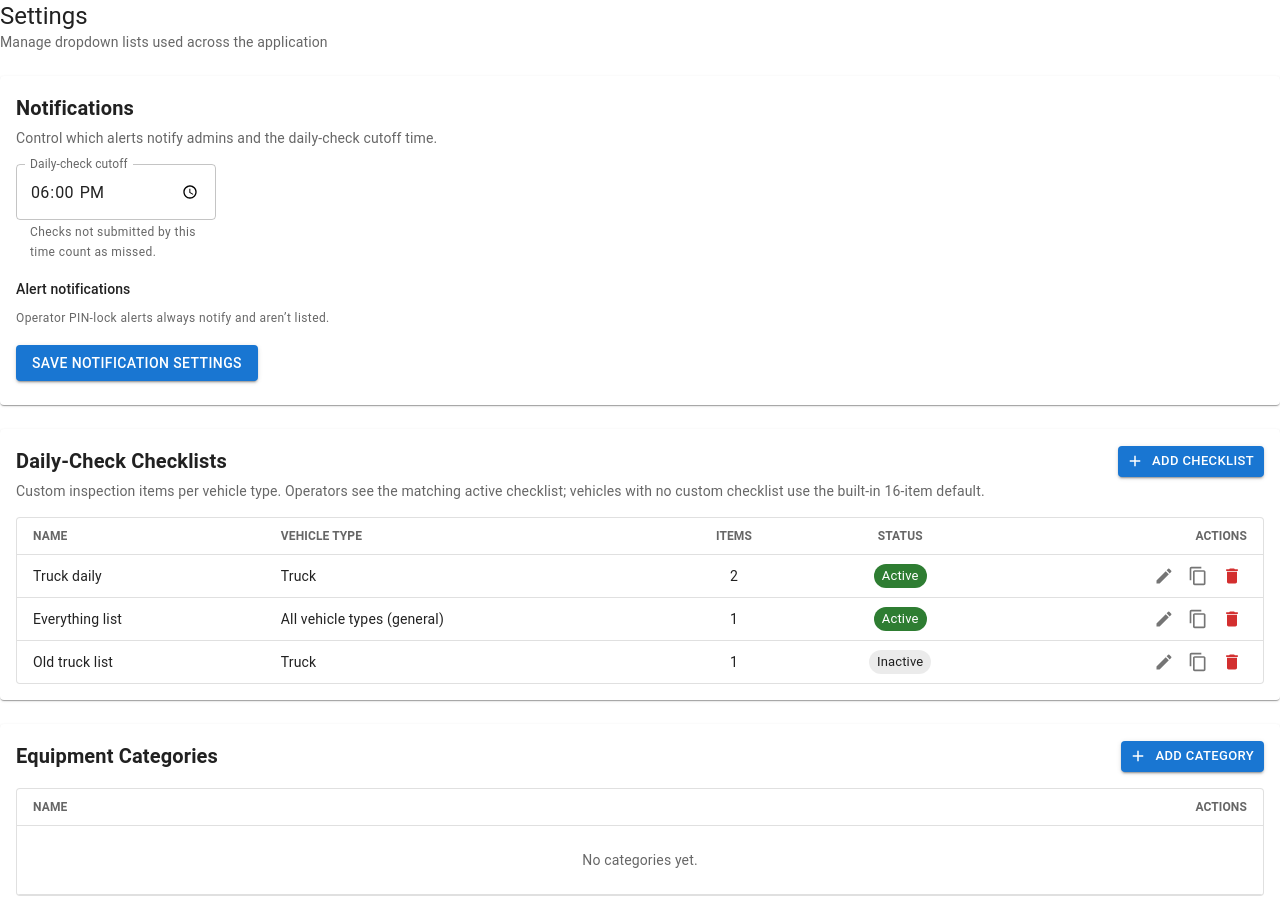
Test: UXP-6 (6e): Duplicate + inline validation › blocks an empty name and an empty item list inline — no request, no toast
Expected: the text "Truck daily" is shown, [33,568,102,584]
Click the button "Add Checklist" at (1191, 461), box [1118,446,1264,477]
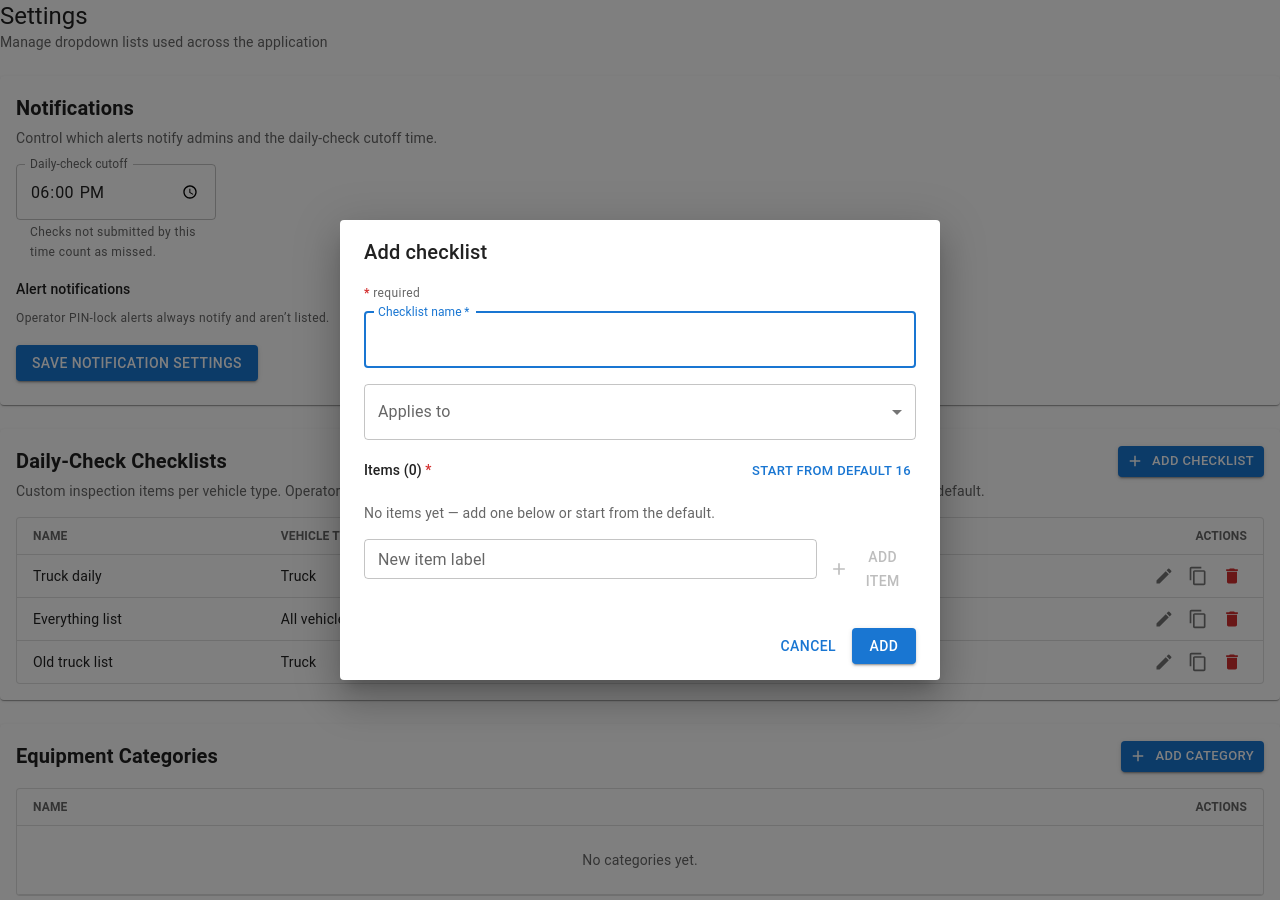
Click the button "Add" at (884, 646), box [852,628,916,664]
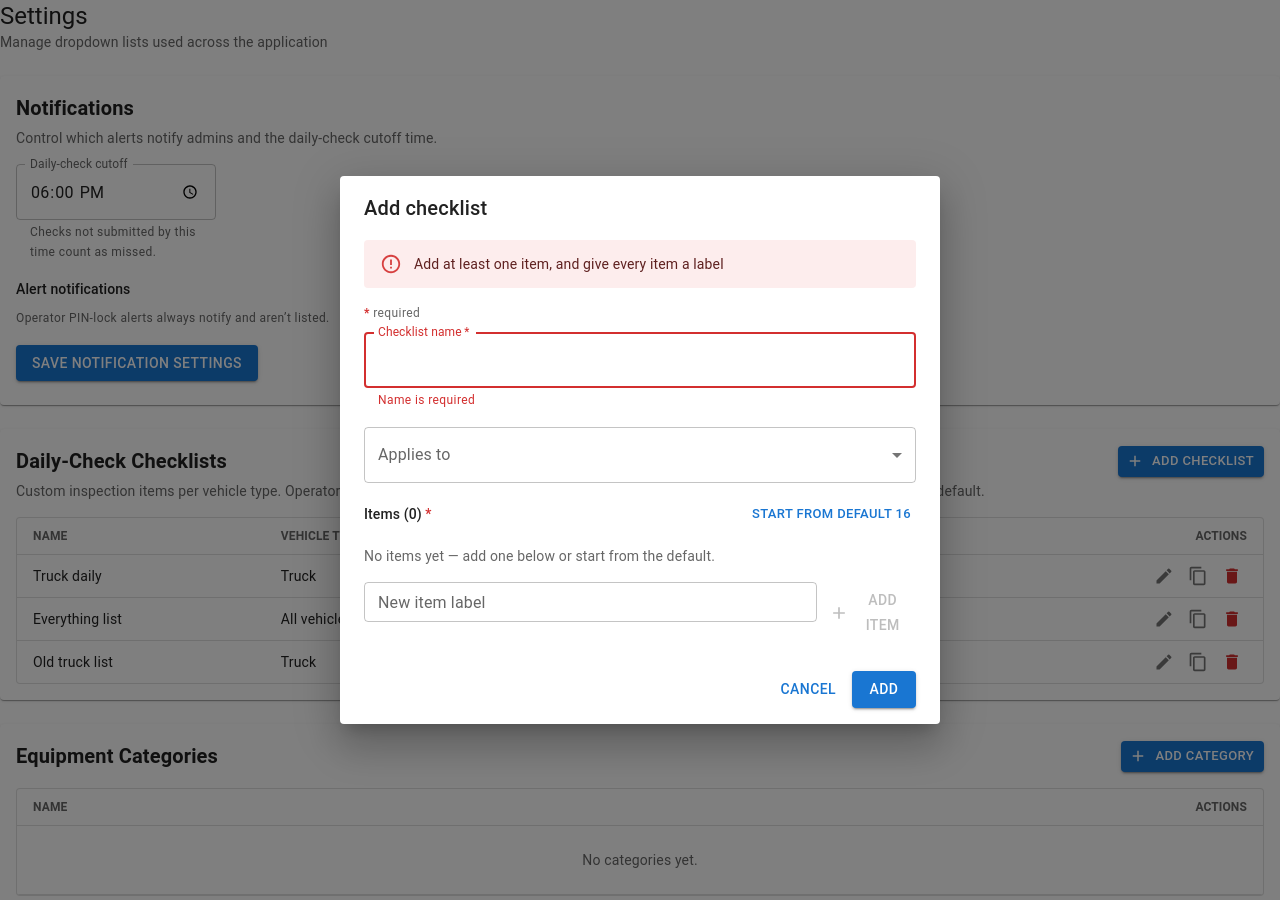
Result: the text "Name is required" is shown at [378,393,475,407]
Result: the text "Add at least one item, and give every item a label" is shown at [414,256,724,272]
